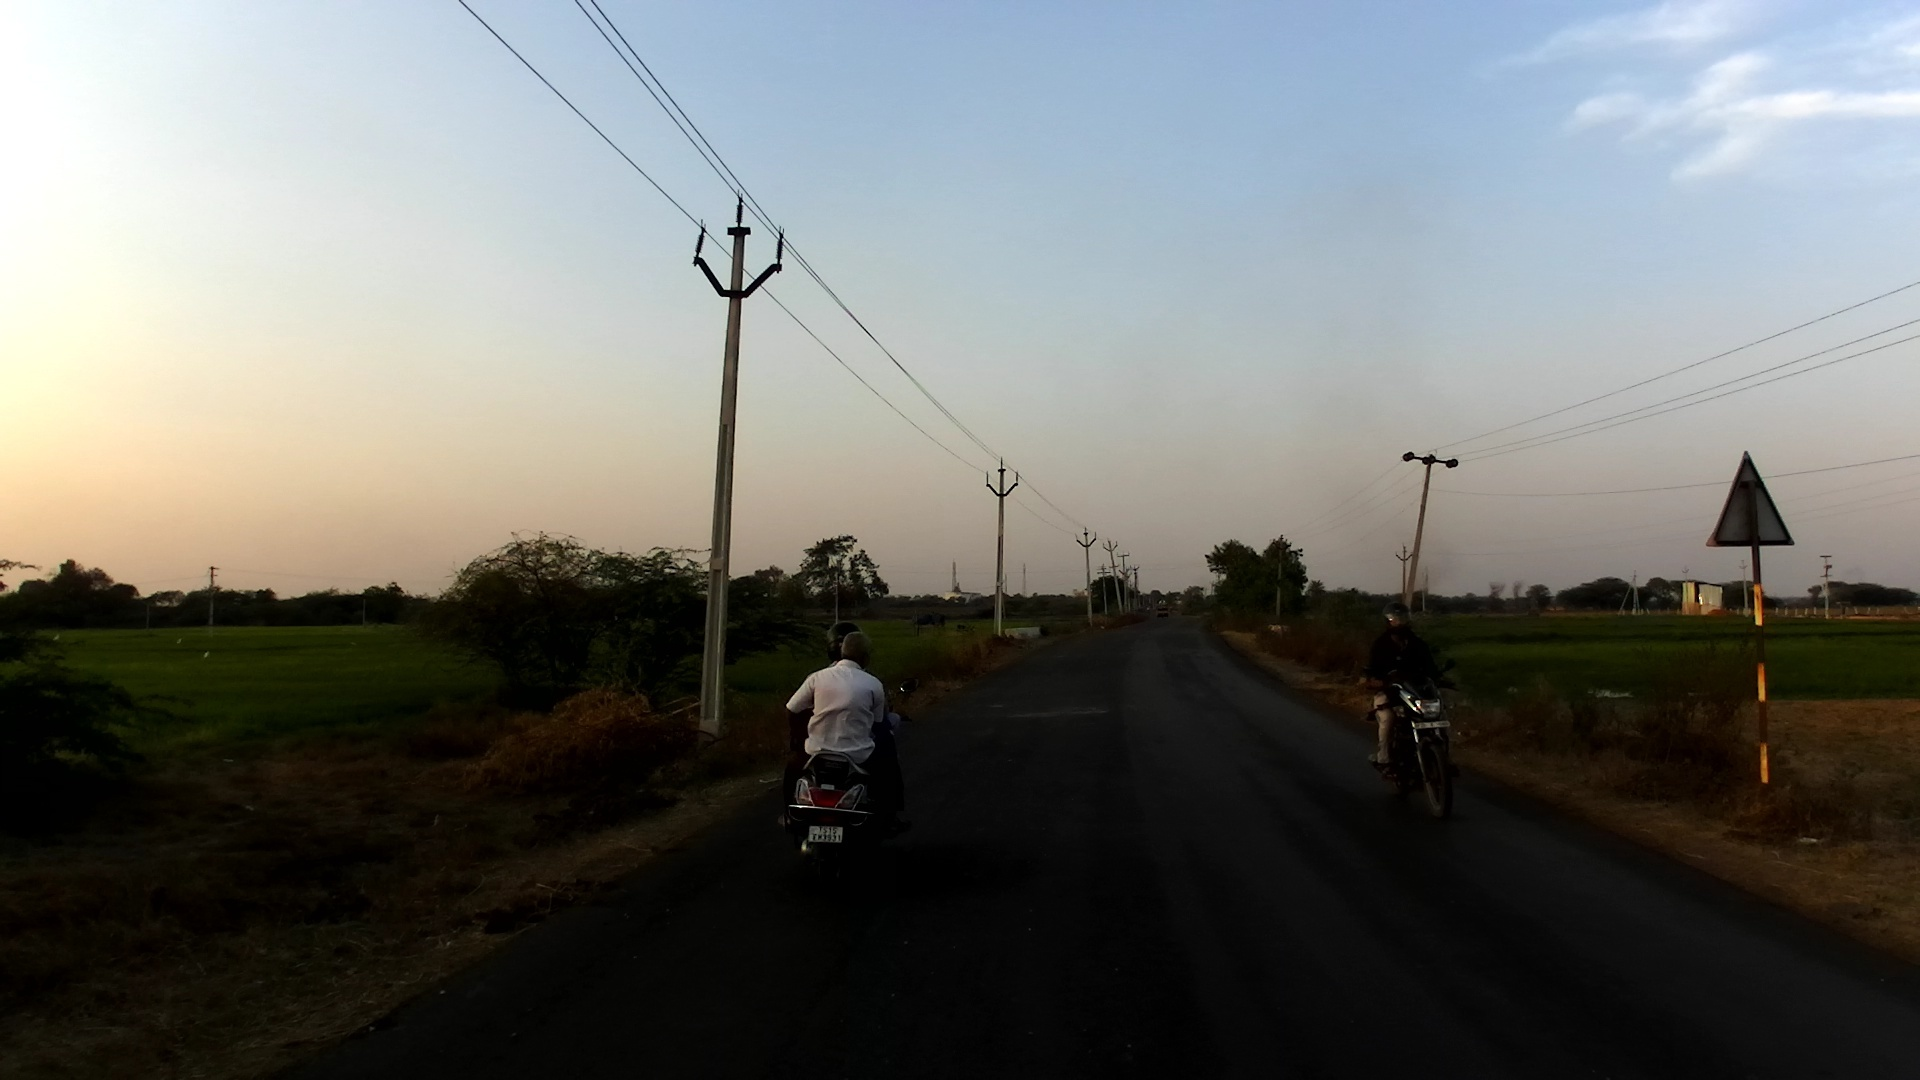car: (1150, 598, 1170, 620)
motorcycle: (782, 672, 926, 883), (1356, 650, 1463, 821), (955, 621, 978, 636)
rider: (774, 629, 919, 835), (1361, 596, 1445, 783), (815, 621, 893, 752)
